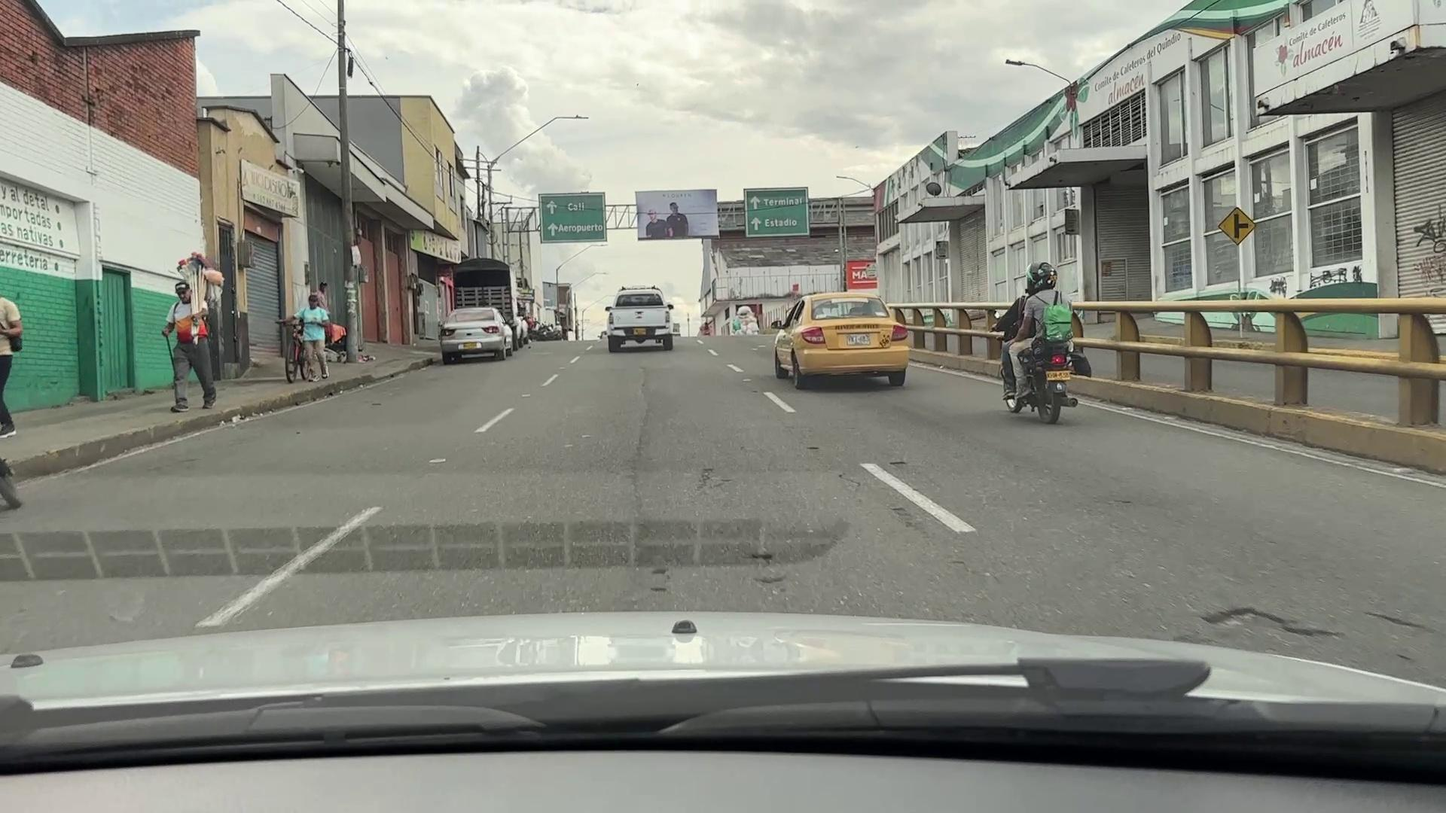bache: (1202, 607, 1335, 636), (756, 577, 782, 583), (652, 568, 668, 574), (751, 554, 770, 559), (651, 587, 666, 591)
